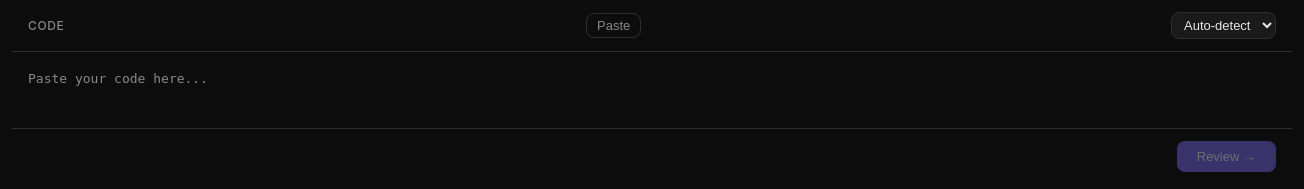
Scenario: CodeInput › shows character count when code is not empty
Type "hello" into the text box with placeholder "Paste your code here...".
click(652, 90); type("hello")  # box 12,52 -> 1292,128
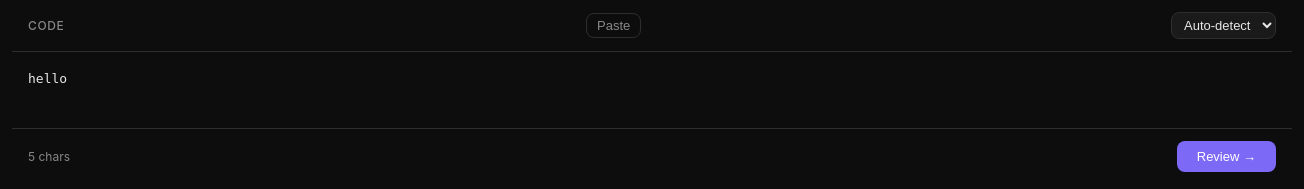
Result: the text "5 chars" is shown at 28,147 -> 70,166
